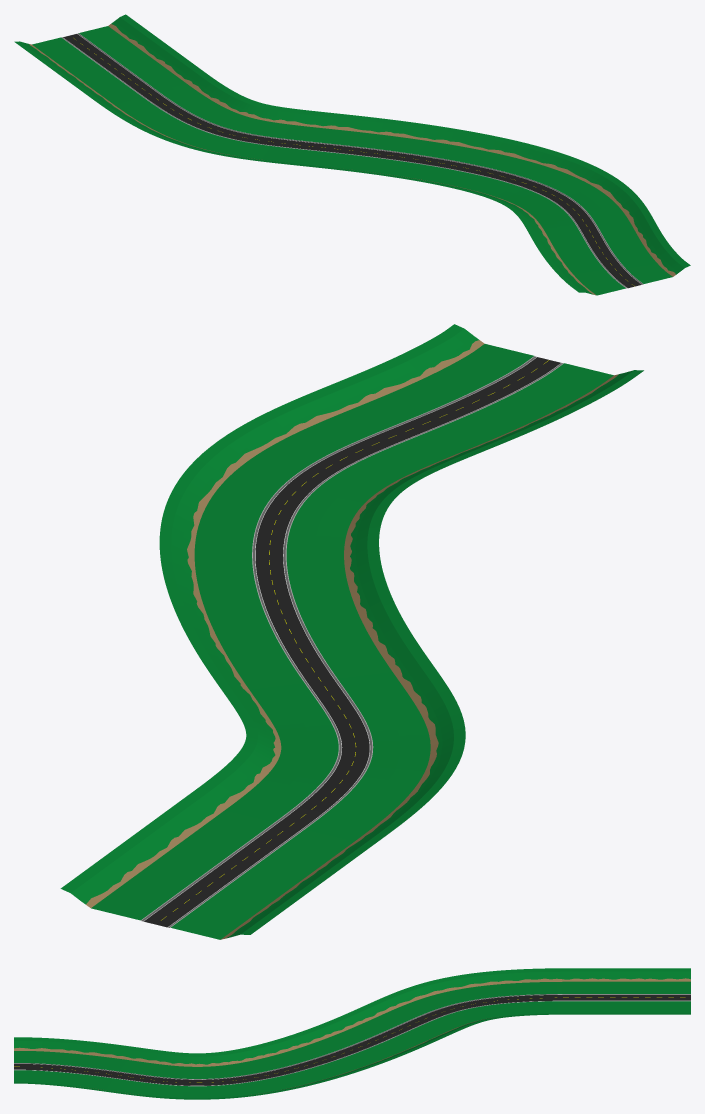
Rendered from highway-01.fbx.
3 renders of one model, top to bottom at view 1: azimuth 30°, elevation 25°; view 2: azimuth 150°, elevation 25°; view 3: azimuth 270°, elevation 25°, orthographic. The views are drawn at different scales.
Visible parts, largest first — view 1: HW-01; view 2: HW-01; view 3: HW-01.
Part boxes in pixels (x1,y1,x2,y2): HW-01: (14,14,690,295); HW-01: (60,324,643,939); HW-01: (14,968,690,1099).
Size of what is drawn, in the model's own units: 264 by 8.51 by 580.
